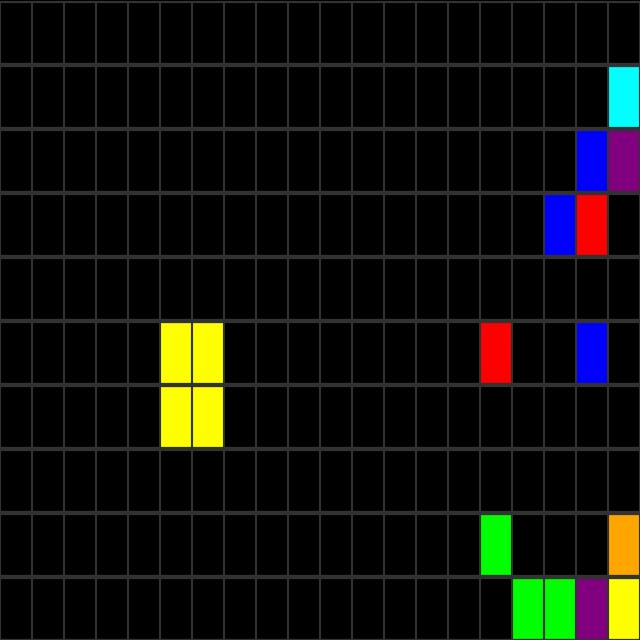Tetrimino_O: (161, 324, 224, 446)
